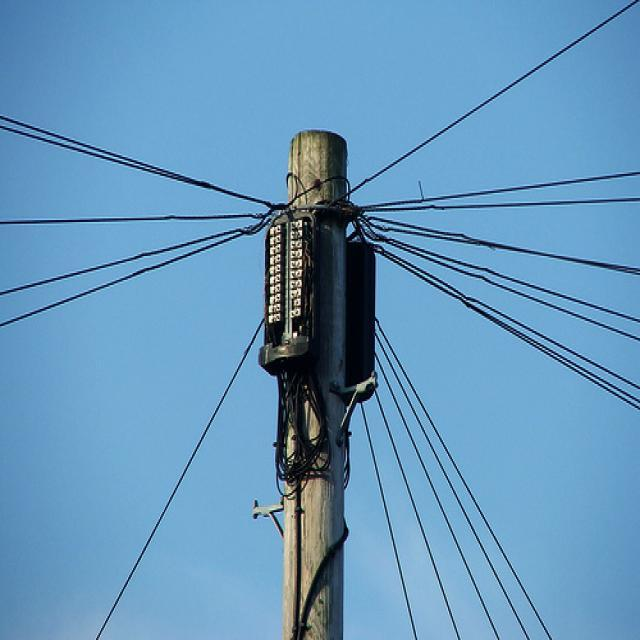pole: (296, 135, 350, 640)
wire: (382, 327, 554, 640), (97, 318, 264, 640), (357, 3, 635, 183), (375, 338, 535, 640), (380, 369, 499, 640), (3, 124, 277, 209), (377, 399, 459, 640), (1, 244, 232, 328), (380, 215, 640, 271), (7, 230, 241, 291), (362, 399, 418, 640), (363, 174, 620, 204), (1, 215, 269, 228), (506, 193, 638, 204), (397, 204, 506, 209), (620, 170, 640, 174)
